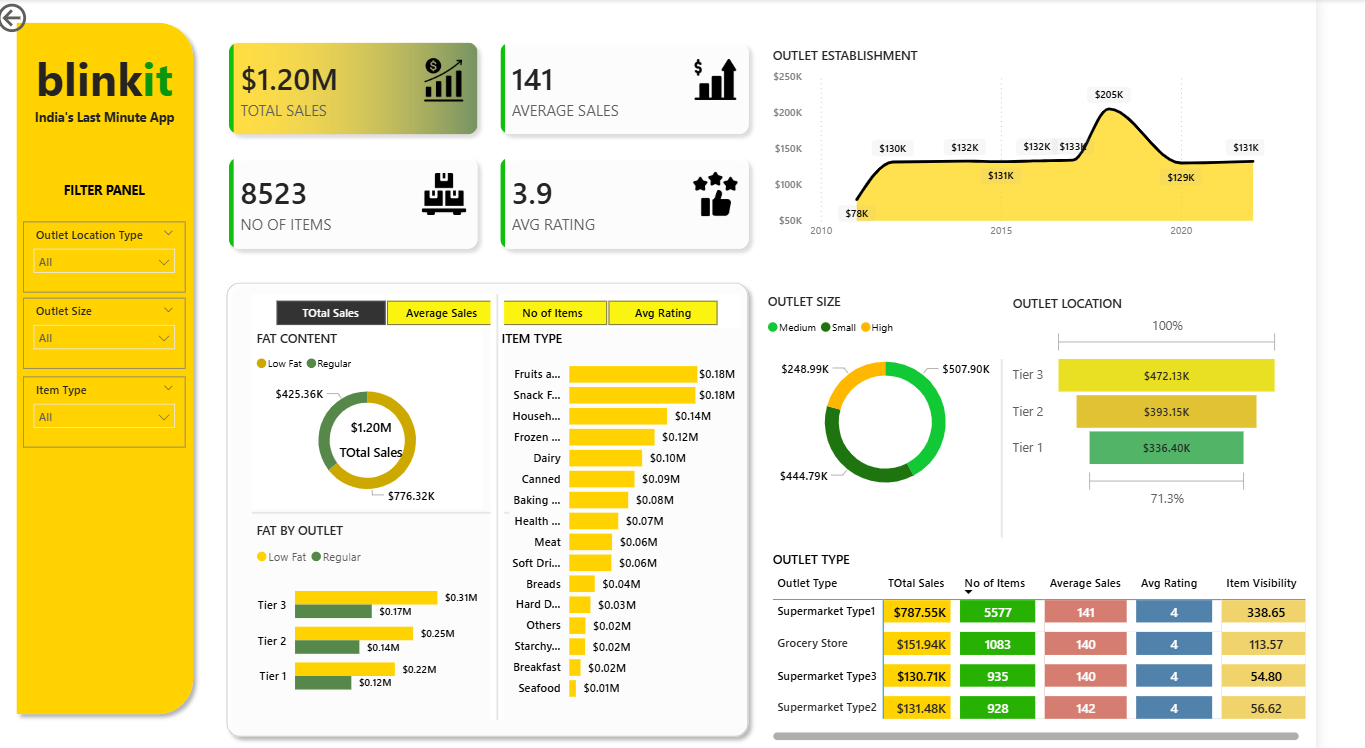

Layout of this report page (visuals, bound fields, positions):
{"tool":"powerbi","page":{"name":"Page 1","canvas":[1400,800],"ordinal":0},"visuals":[{"type":"shape","box":[16.5,16.5,205,750],"z":0},{"type":"textbox","box":[31.5,46.5,172.6,78],"z":1000},{"type":"textbox","box":[31.5,111.1,172.6,28.5],"z":2000},{"type":"cardVisual","fields":{"Data":["BlinkIT Grocery Data.TOtal Sales","BlinkIT Grocery Data.Average Sales","BlinkIT Grocery Data.No of Items","BlinkIT Grocery Data.Avg Rating"]},"box":[224.9,21.2,601.9,269.8],"z":3000},{"type":"shape","box":[238.1,291,570.1,498.7],"z":4000},{"type":"donutChart","title":"FAT CONTENT","fields":{"Y":["BlinkIT Grocery Data.TOtal Sales"],"Category":["BlinkIT Grocery Data.Item Fat Content"]},"box":[273.8,349.2,244.7,190.5],"z":5000},{"type":"slicer","fields":{"Values":["Metrics.Metrics"]},"box":[273.8,312.2,517.2,37],"z":6000},{"type":"card","fields":{"Values":["BlinkIT Grocery Data.TOtal Sales"]},"box":[350.5,439.2,99.2,51.6],"z":7000},{"type":"clusteredBarChart","title":"FAT BY OUTLET ","fields":{"Y":["BlinkIT Grocery Data.TOtal Sales"],"Category":["BlinkIT Grocery Data.Outlet Location Type"],"Series":["BlinkIT Grocery Data.Item Fat Content"]},"box":[273.8,552.9,244.7,199.7],"z":8000},{"type":"shape","box":[273.8,534.4,272.5,18.5],"z":9000},{"type":"shape","box":[526.5,312.2,14.6,451.1],"z":10000},{"type":"barChart","title":" ITEM TYPE","fields":{"Y":["BlinkIT Grocery Data.TOtal Sales"],"Category":["BlinkIT Grocery Data.Item Type"]},"box":[533.1,349.2,257.9,403.4],"z":11000},{"type":"lineChart","title":"OUTLET ESTABLISHMENT ","fields":{"Category":["BlinkIT Grocery Data.Outlet Establishment Year"],"Y":["BlinkIT Grocery Data.TOtal Sales"]},"box":[820.1,50.3,530.4,211.6],"z":12000},{"type":"donutChart","title":"OUTLET SIZE","fields":{"Y":["BlinkIT Grocery Data.TOtal Sales"],"Category":["BlinkIT Grocery Data.Outlet Size"]},"box":[814.8,310.8,259.3,228.8],"z":13000},{"type":"shape","box":[1060.9,381,13.2,189.2],"z":14000},{"type":"funnel","title":" OUTLET LOCATION","fields":{"Y":["BlinkIT Grocery Data.TOtal Sales"],"Category":["BlinkIT Grocery Data.Outlet Location Type"]},"box":[1074.1,312.2,292.3,231.5],"z":15000},{"type":"pivotTable","title":"OUTLET TYPE","fields":{"Rows":["BlinkIT Grocery Data.Outlet Type"],"Values":["BlinkIT Grocery Data.TOtal Sales","BlinkIT Grocery Data.No of Items","BlinkIT Grocery Data.Average Sales","BlinkIT Grocery Data.Avg Rating","Sum(BlinkIT Grocery Data.Item Visibility)"]},"box":[820.1,583.3,574.1,206.4],"z":16000},{"type":"actionButton","box":[0,0,100,40],"z":17000},{"type":"slicer","fields":{"Values":["BlinkIT Grocery Data.Outlet Location Type"]},"box":[31.7,235.5,172,75.4],"z":18000},{"type":"slicer","fields":{"Values":["BlinkIT Grocery Data.Outlet Size"]},"box":[31.7,316.1,172,75.4],"z":19000},{"type":"slicer","fields":{"Values":["BlinkIT Grocery Data.Item Type"]},"box":[31.7,399.5,172,75.4],"z":20000},{"type":"textbox","box":[31.7,187.8,172,31.7],"z":21000}]}

Visuals, with their boxes on the page's 1400x800 design canvas (x1, y1, x2, y2). These are canvas units, not pixel positions in the 1365x748 screenshot, which may show the page scaled, cropped or inside an application window:
shape: l=16, t=16, r=222, b=766
textbox: l=32, t=46, r=204, b=124
textbox: l=32, t=111, r=204, b=140
cardVisual - BlinkIT Grocery Data.TOtal Sales x BlinkIT Grocery Data.Average Sales: l=225, t=21, r=827, b=291
shape: l=238, t=291, r=808, b=790
"FAT CONTENT" donutChart: l=274, t=349, r=518, b=540
slicer - Metrics.Metrics: l=274, t=312, r=791, b=349
card - BlinkIT Grocery Data.TOtal Sales: l=350, t=439, r=450, b=491
"FAT BY OUTLET " clusteredBarChart: l=274, t=553, r=518, b=753
shape: l=274, t=534, r=546, b=553
shape: l=526, t=312, r=541, b=763
" ITEM TYPE" barChart: l=533, t=349, r=791, b=753
"OUTLET ESTABLISHMENT " lineChart: l=820, t=50, r=1350, b=262
"OUTLET SIZE" donutChart: l=815, t=311, r=1074, b=540
shape: l=1061, t=381, r=1074, b=570
" OUTLET LOCATION" funnel: l=1074, t=312, r=1366, b=544
"OUTLET TYPE" pivotTable: l=820, t=583, r=1394, b=790
actionButton: l=0, t=0, r=100, b=40
slicer - BlinkIT Grocery Data.Outlet Location Type: l=32, t=236, r=204, b=311
slicer - BlinkIT Grocery Data.Outlet Size: l=32, t=316, r=204, b=392
slicer - BlinkIT Grocery Data.Item Type: l=32, t=400, r=204, b=475
textbox: l=32, t=188, r=204, b=220
